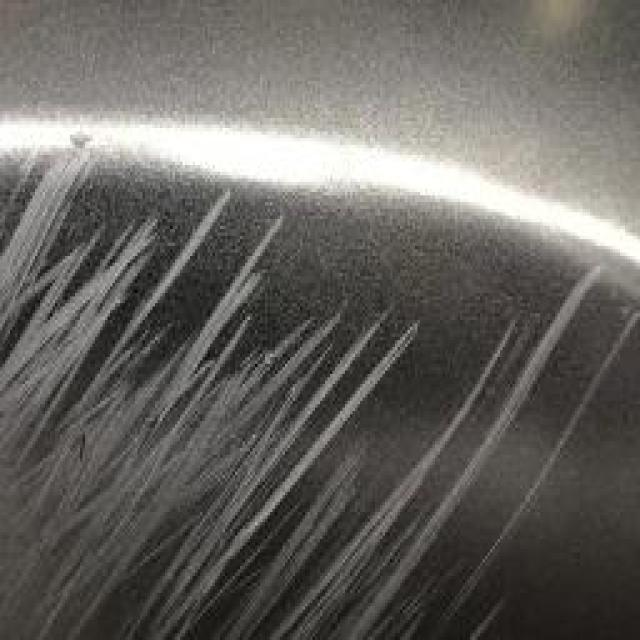Door: (2, 108, 628, 640)
